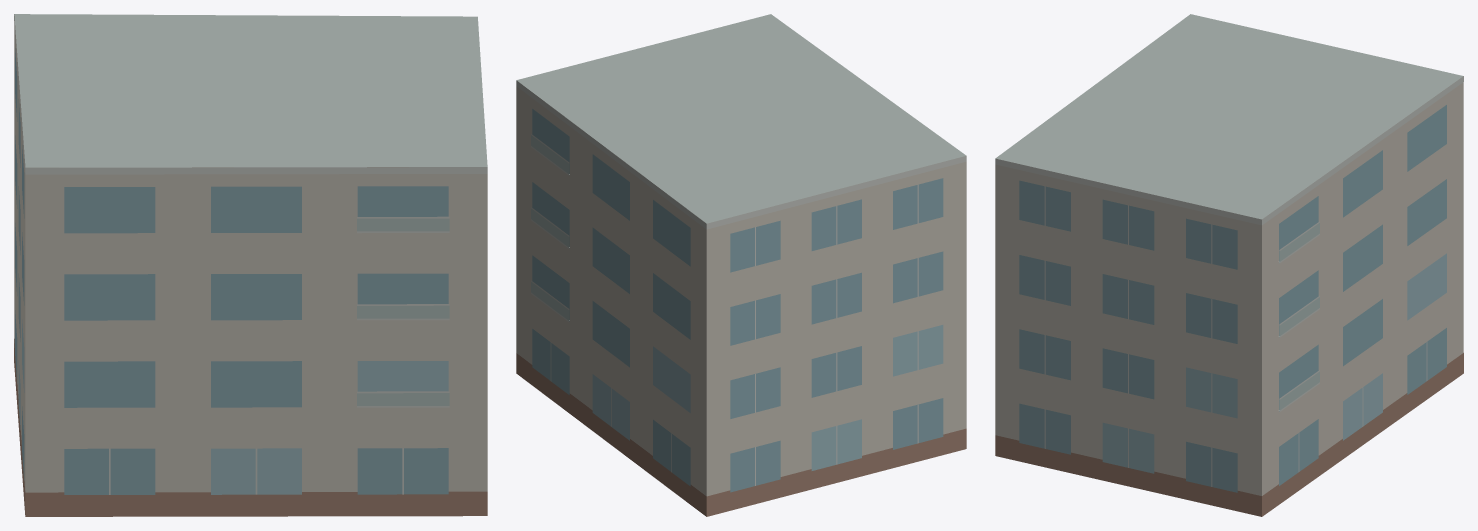
The model's file is survey-upis-32675577.glb.
3 views of the same model, side by side, from view 1: azimuth 30°, elevation 25°; view 2: azimuth 150°, elevation 25°; view 3: azimuth 270°, elevation 25° (orthographic). The views are drawn at different scales.
Visible parts, largest first — view 1: survey-upis-32675577.tmp; view 2: survey-upis-32675577.tmp; view 3: survey-upis-32675577.tmp.
Part boxes in pixels (<box>): survey-upis-32675577.tmp: <box>14,14,487,516</box>; survey-upis-32675577.tmp: <box>516,14,966,516</box>; survey-upis-32675577.tmp: <box>995,14,1463,516</box>.
Size of the model in its own units: 18.09 by 12.2 by 17.43.
